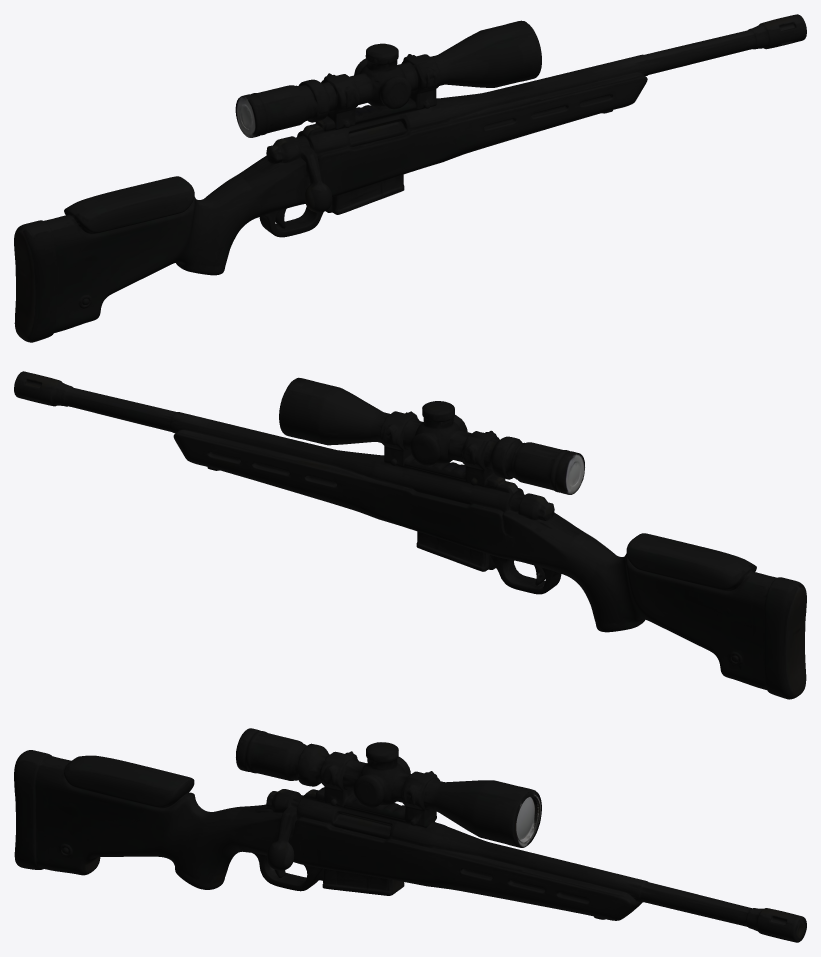
The model's file is R17-scoped-overwatch-rifle.glb.
The picture shows the model from 3 angles, top to bottom: view 1: azimuth 30°, elevation 25°; view 2: azimuth 150°, elevation 25°; view 3: azimuth 330°, elevation 25°; orthographic projection.
Visible parts, largest first — view 1: material; view 2: material; view 3: material.
Boxes of the visible parts, x1,y1,x2,y2 form: material: (14, 14, 806, 342); material: (14, 371, 806, 699); material: (14, 728, 806, 942).
Size of the model in its own units: 1.17 by 0.2928 by 0.1065.
Materials: 1 (1 with a texture image).
